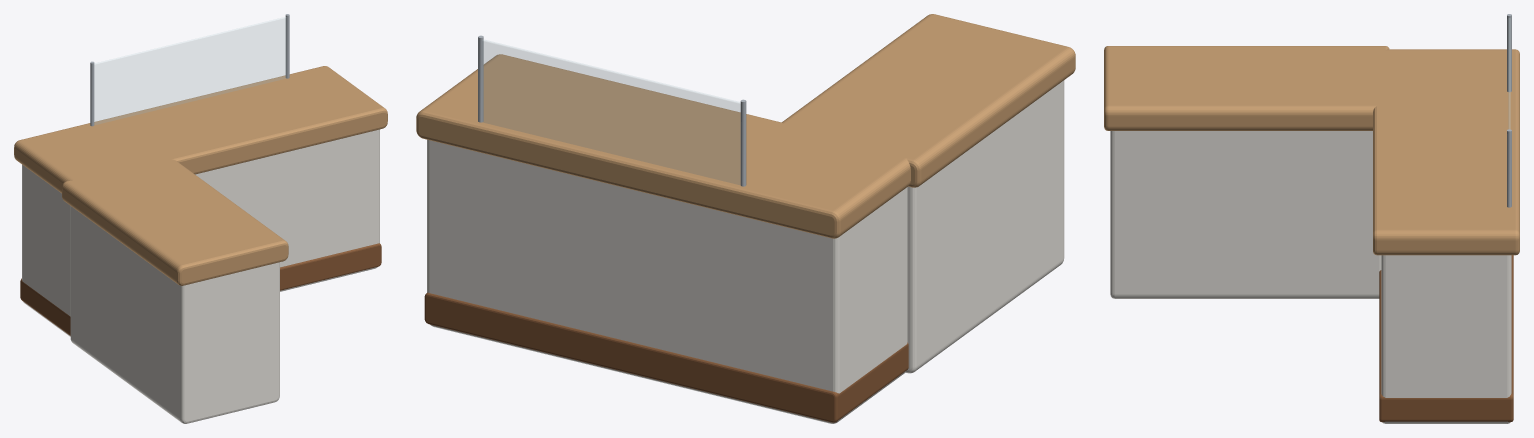
Rendered from reception_counter.glb.
The picture shows the model from 3 angles, left to right: view 1: azimuth 30°, elevation 25°; view 2: azimuth 150°, elevation 25°; view 3: azimuth 270°, elevation 25°; orthographic projection. The views are drawn at different scales.
Visible parts, largest first — view 1: reception_counter_refined; view 2: reception_counter_refined; view 3: reception_counter_refined.
Boxes of the visible parts, <box> form: reception_counter_refined: <box>14,14,387,423</box>; reception_counter_refined: <box>416,14,1075,423</box>; reception_counter_refined: <box>1104,14,1519,423</box>.
Size of the model in its own units: 2.14 by 1.43 by 1.98.
